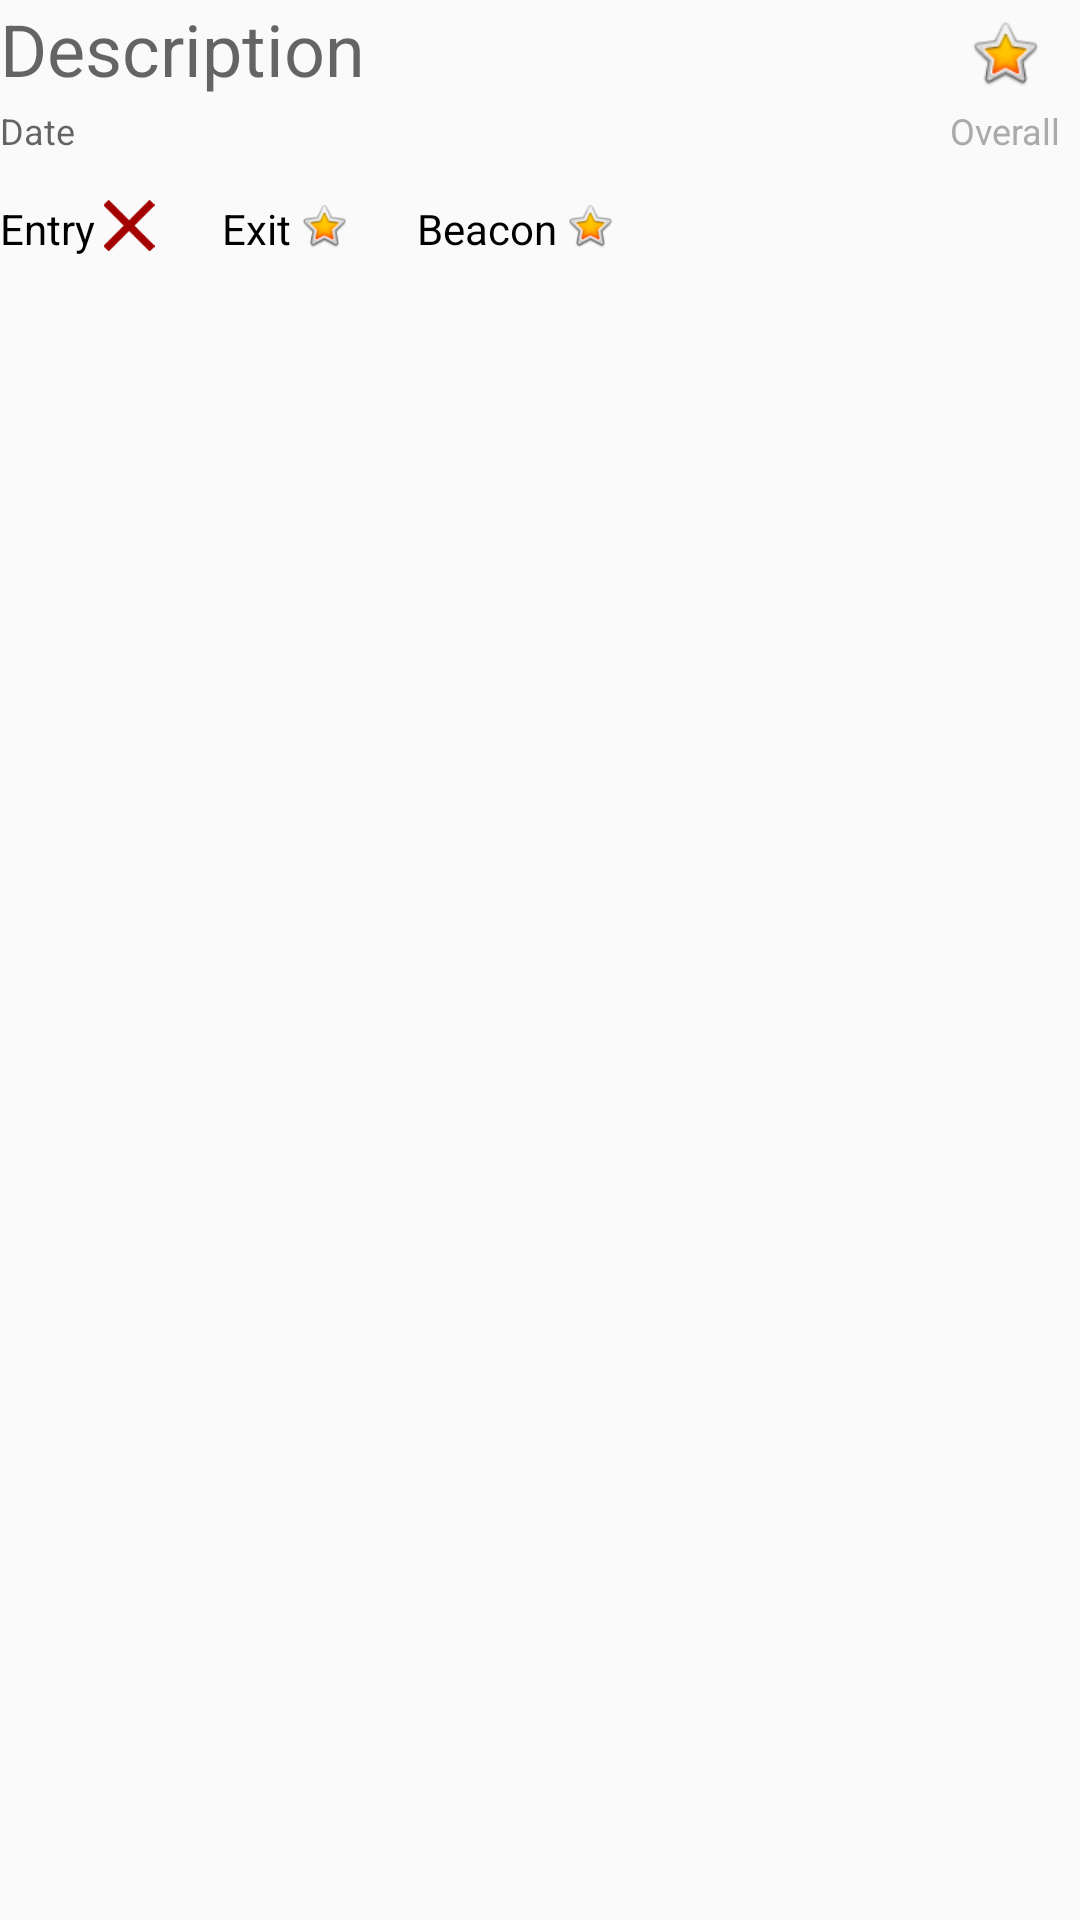

Screen size 1080×1920. Icon name, then its center in pixels as [x,y]:
cross: [129,225]
star on: [1005,54], [324,226], [590,226]
